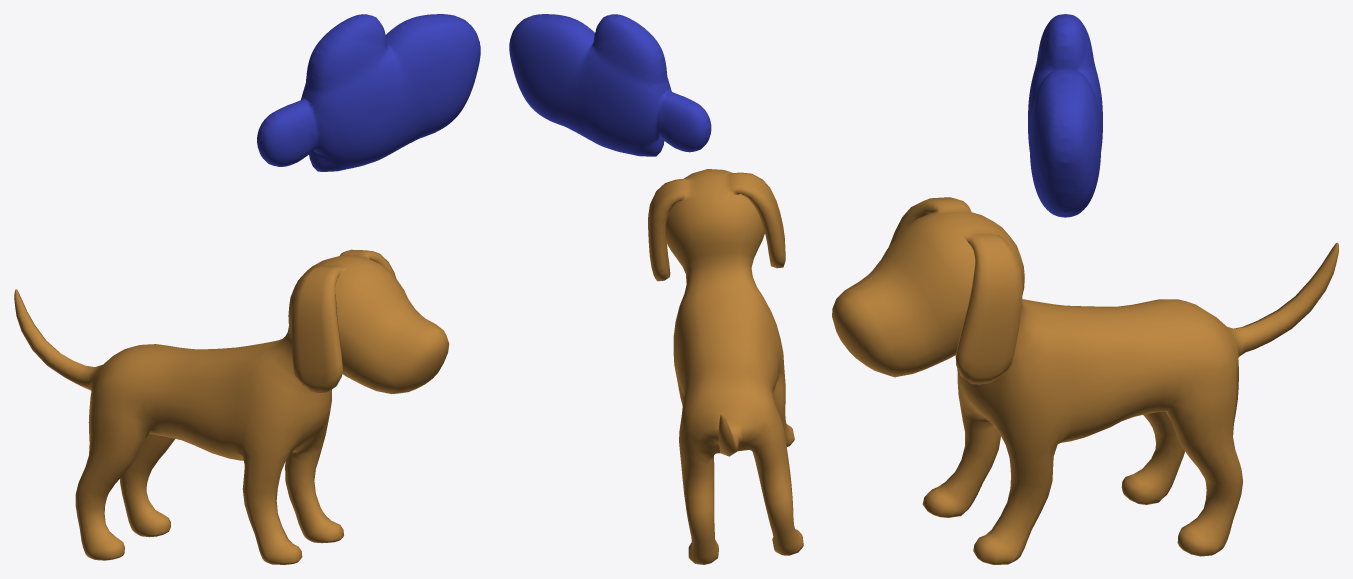
The picture shows the model from 3 angles, left to right: view 1: azimuth 30°, elevation 25°; view 2: azimuth 150°, elevation 25°; view 3: azimuth 270°, elevation 25°; orthographic projection. The views are drawn at different scales.
Visible parts, largest first — view 1: mesh_id27, mesh_id28; view 2: mesh_id27, mesh_id28; view 3: mesh_id27, mesh_id28.
Boxes of the visible parts, x1=… form: mesh_id27: x1=14, y1=249, x2=449, y2=564; mesh_id28: x1=257, y1=14, x2=480, y2=171; mesh_id27: x1=648, y1=169, x2=803, y2=564; mesh_id28: x1=509, y1=14, x2=711, y2=156; mesh_id27: x1=832, y1=197, x2=1338, y2=564; mesh_id28: x1=1028, y1=14, x2=1102, y2=217.
Bounding box in the file's own units: 0.2701 × 0.3795 × 0.2808.
Materials: 2 (2 with a texture image).
